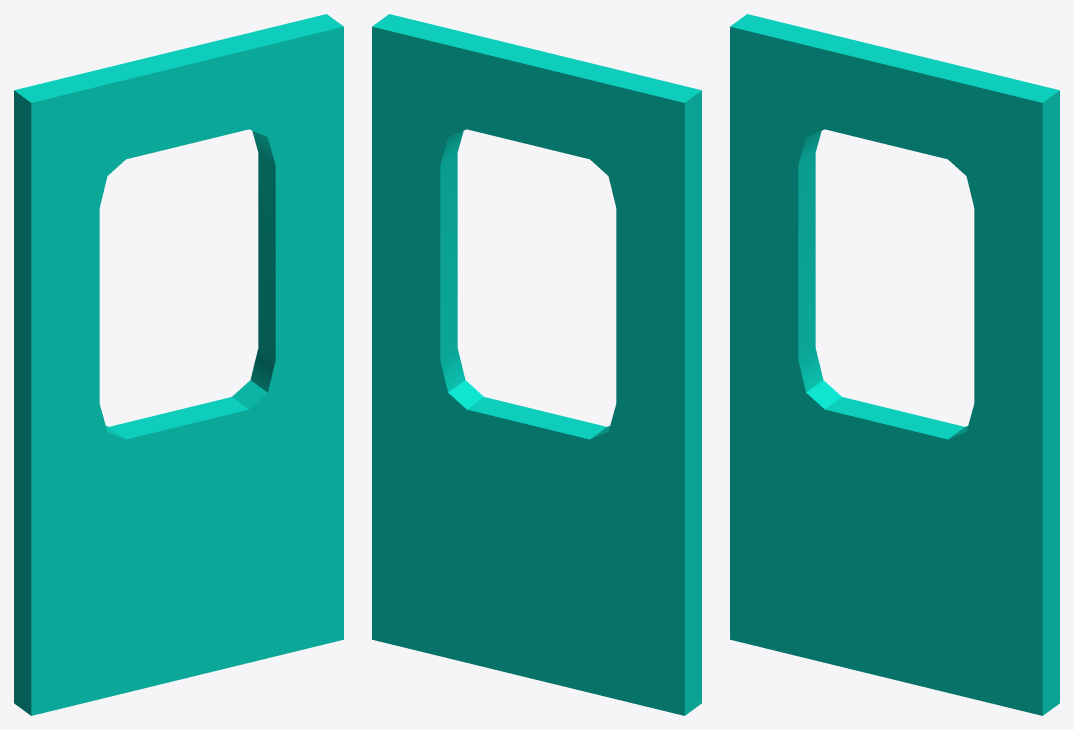
File: TransitionDoor.fbx
The picture shows the model from 3 angles, left to right: view 1: azimuth 30°, elevation 25°; view 2: azimuth 150°, elevation 25°; view 3: azimuth 330°, elevation 25°; orthographic projection.
Visible parts, largest first — view 1: TransitionDoor; view 2: TransitionDoor; view 3: TransitionDoor.
Boxes of the visible parts, <box> form: TransitionDoor: <box>14,14,343,715</box>; TransitionDoor: <box>372,14,701,715</box>; TransitionDoor: <box>730,14,1059,715</box>.
Bounding box in the file's own units: 1.4 × 2.62 × 0.1341.
